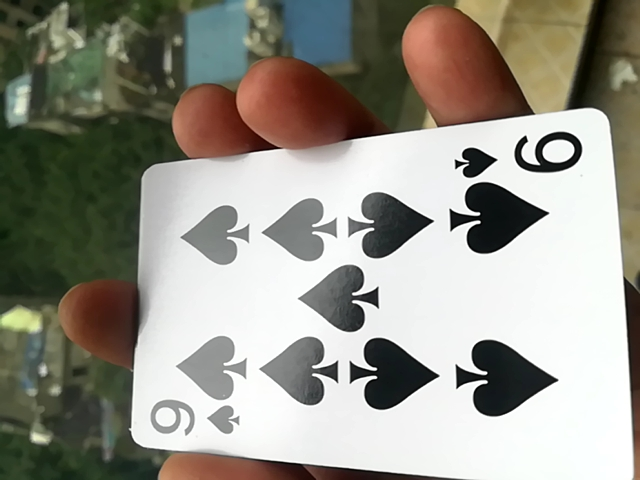ht 9: (118, 122, 630, 480)
